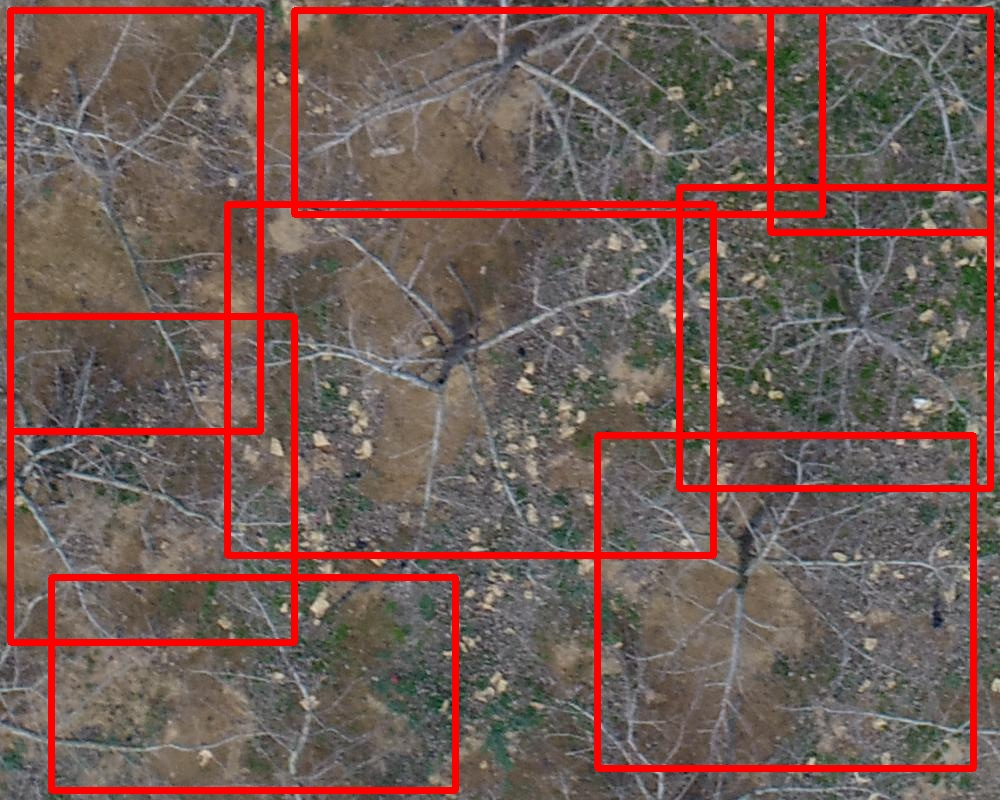apple: (227, 204, 713, 555), (597, 435, 973, 768), (294, 10, 822, 214), (10, 10, 260, 431), (679, 187, 990, 488), (10, 316, 294, 642), (51, 577, 455, 790), (770, 10, 990, 232)
